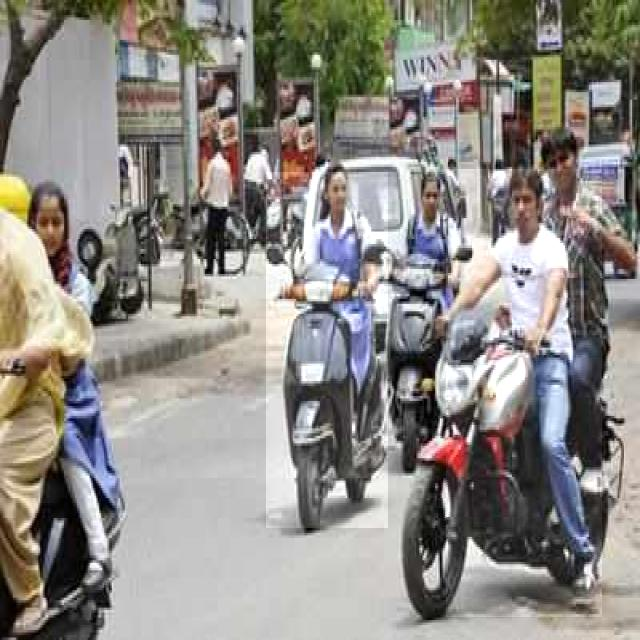No_Helmet: (446, 170, 602, 618), (266, 172, 388, 528)
